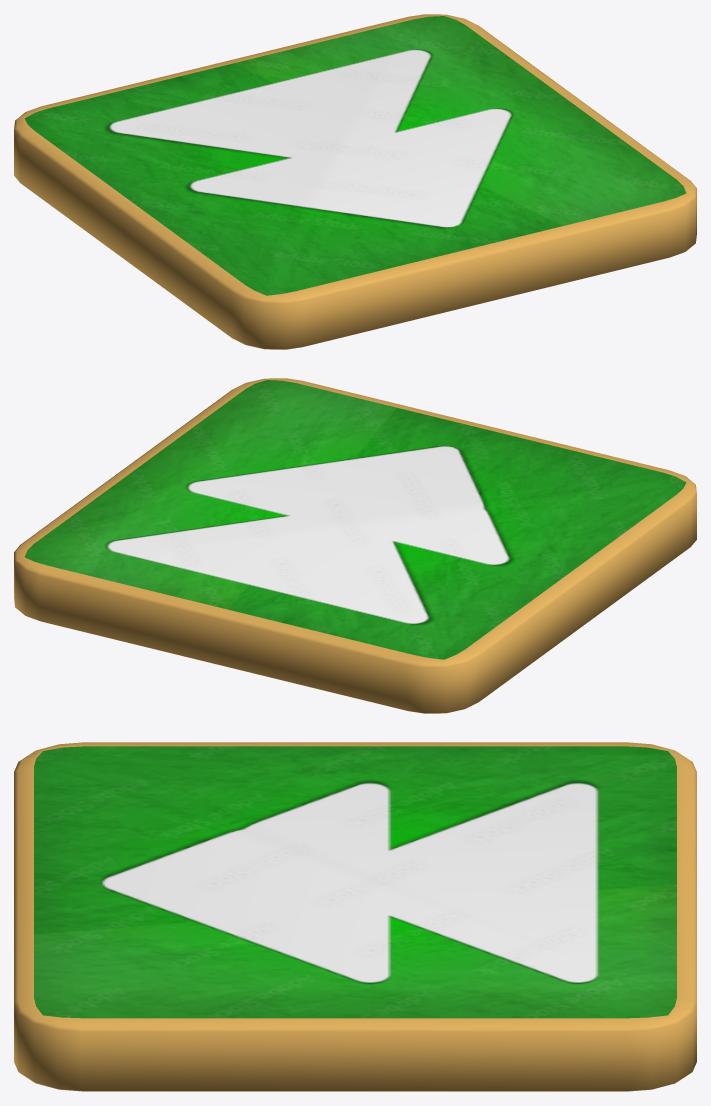
Rendered from JumpFile.fbx.
3 views of the same model, one above another, from view 1: azimuth 30°, elevation 25°; view 2: azimuth 150°, elevation 25°; view 3: azimuth 270°, elevation 25° (orthographic). The views are drawn at different scales.
Visible parts, largest first — view 1: Roundcube; view 2: Roundcube; view 3: Roundcube.
Boxes of the visible parts, x1=… form: Roundcube: x1=14, y1=14, x2=696, y2=349; Roundcube: x1=14, y1=378, x2=696, y2=713; Roundcube: x1=14, y1=742, x2=696, y2=1091.
Size of the model in its own units: 2 by 0.2309 by 2.
